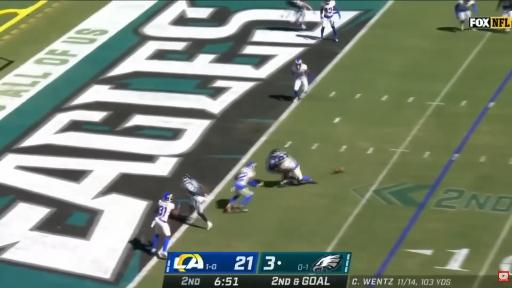Helmet: (163, 193, 172, 201), (295, 58, 302, 68), (247, 162, 256, 169), (271, 149, 280, 154), (183, 174, 190, 180), (268, 160, 274, 167), (296, 58, 301, 64)
Jersey: (270, 152, 298, 170), (234, 168, 255, 190), (157, 200, 174, 222), (182, 179, 202, 197), (322, 0, 336, 18), (292, 64, 307, 79), (458, 0, 475, 13), (501, 0, 512, 12), (288, 0, 302, 9)
Player: (151, 193, 178, 258), (182, 175, 212, 229), (267, 150, 313, 185), (225, 162, 256, 212), (320, 0, 340, 41), (292, 58, 309, 101), (287, 0, 312, 29), (455, 0, 477, 30), (497, 0, 511, 17)
